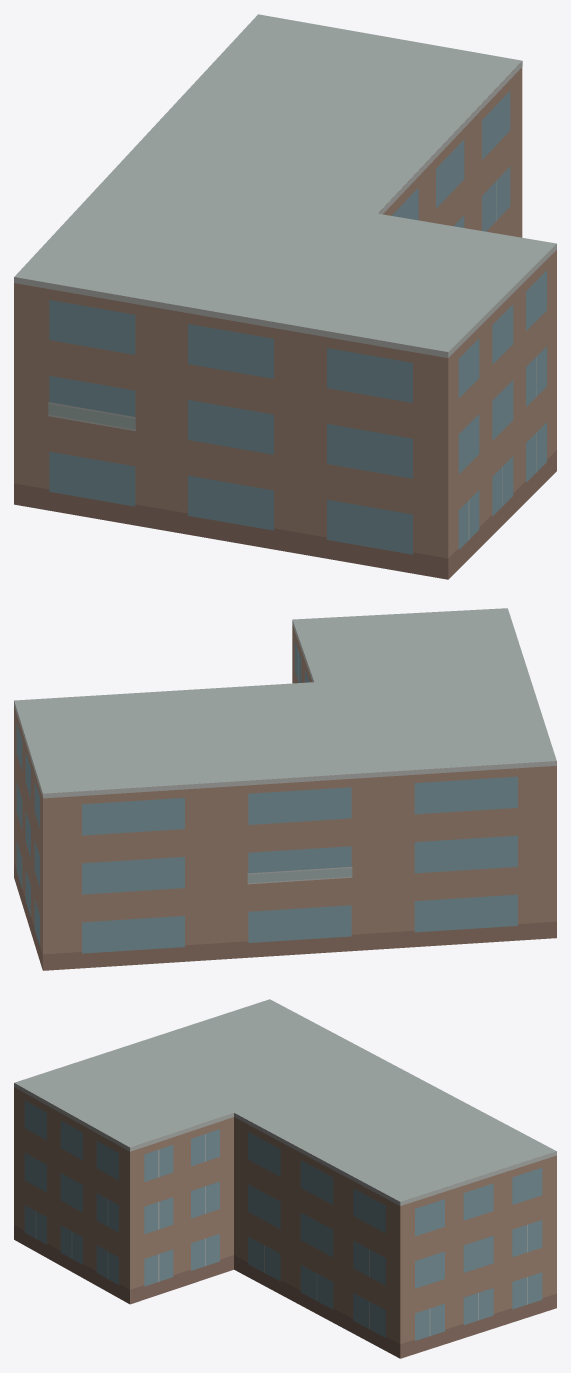
The model's file is survey-upis-33009914.glb.
3 views of the same model, one above another, from view 1: azimuth 30°, elevation 25°; view 2: azimuth 150°, elevation 25°; view 3: azimuth 270°, elevation 25° (orthographic). The views are drawn at different scales.
Visible parts, largest first — view 1: survey-upis-33009914.tmp; view 2: survey-upis-33009914.tmp; view 3: survey-upis-33009914.tmp.
Boxes of the visible parts, bbox=[...] form: survey-upis-33009914.tmp: bbox=[14, 14, 556, 579]; survey-upis-33009914.tmp: bbox=[14, 608, 556, 970]; survey-upis-33009914.tmp: bbox=[14, 999, 556, 1358].
Size of the model in its own units: 25.38 by 9.15 by 28.71.
